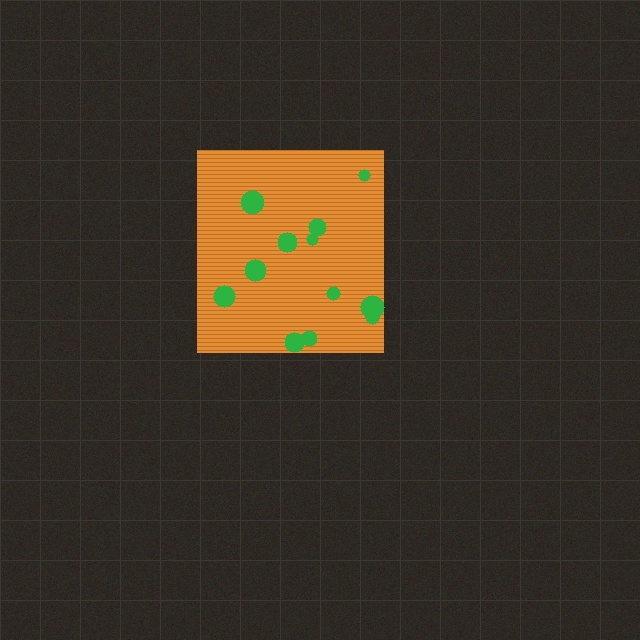over_extrusion: (192, 145, 388, 357)
